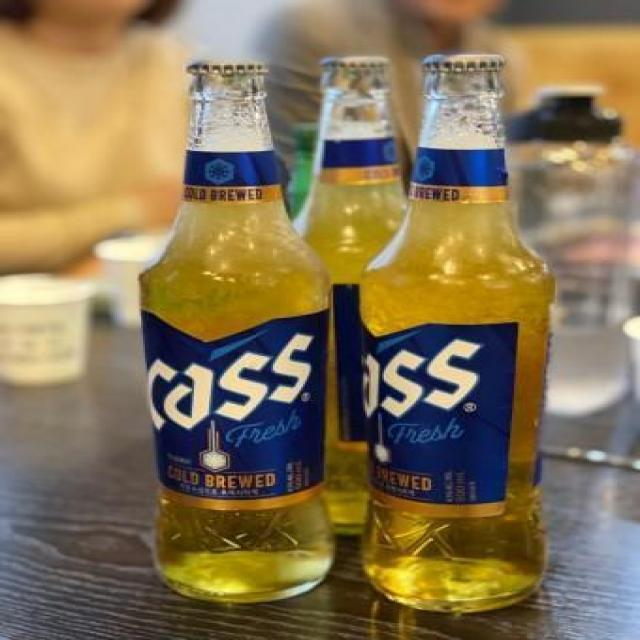beer-bottle: (354, 50, 574, 618), (130, 48, 339, 602), (309, 37, 412, 210)
